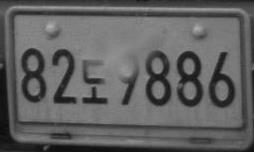2: (51, 48, 77, 104)
6: (208, 51, 236, 108)
8: (176, 50, 204, 107), (144, 49, 171, 107), (20, 47, 47, 103)
9: (114, 50, 141, 105)
도: (81, 58, 108, 104)
